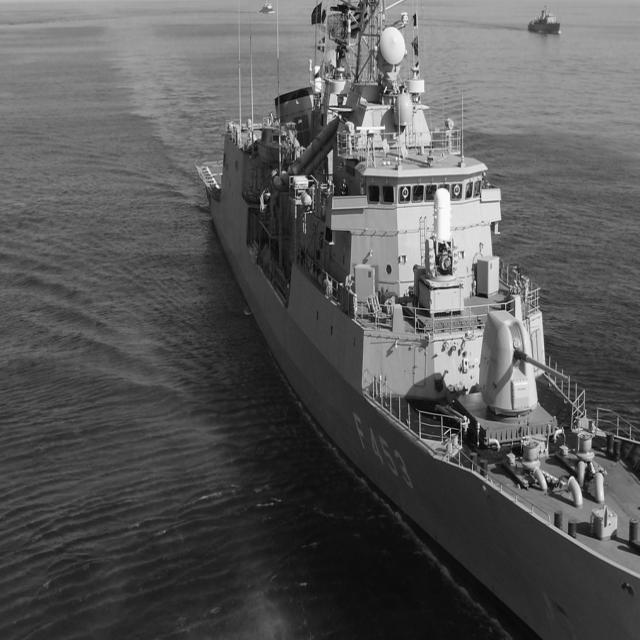Fragata: (196, 1, 640, 640)
